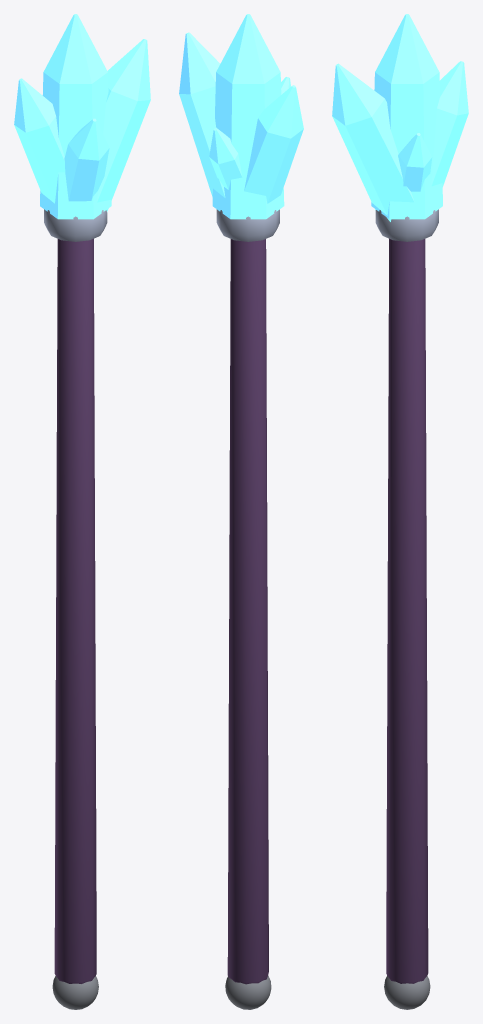
File: crystalstaff.glb
3 renders of one model, left to right at view 1: azimuth 90°, elevation 25°; view 2: azimuth 210°, elevation 25°; view 3: azimuth 270°, elevation 25°, orthographic.
Visible parts, largest first — view 1: wpn_crystalstaff; view 2: wpn_crystalstaff; view 3: wpn_crystalstaff.
Part boxes in pixels (x1,y1,x2,y2): wpn_crystalstaff: [14, 14, 150, 1009]; wpn_crystalstaff: [179, 14, 303, 1009]; wpn_crystalstaff: [332, 14, 468, 1009].
Size of the model in its own units: 0.2473 by 2.6 by 0.3239.
